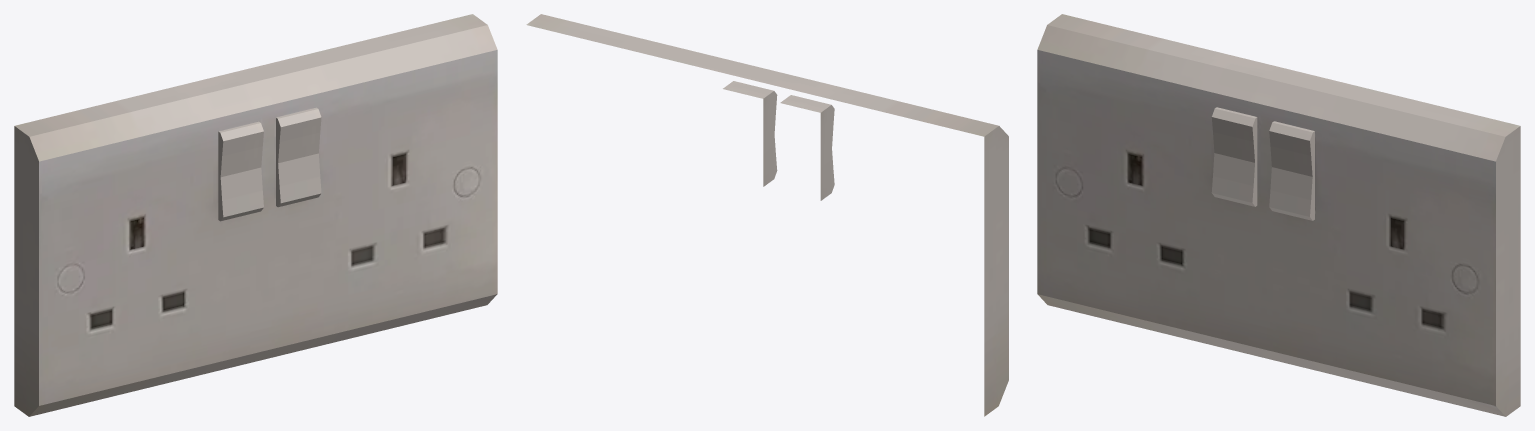
Rendered from socket-twin.glb.
The picture shows the model from 3 angles, left to right: view 1: azimuth 30°, elevation 25°; view 2: azimuth 150°, elevation 25°; view 3: azimuth 330°, elevation 25°; orthographic projection.
Parts seen in each view (by area): view 1: wallSocket; view 2: wallSocket; view 3: wallSocket.
Boxes of the visible parts, x1,y1,x2,y2 form: wallSocket: (14,14,497,416); wallSocket: (526,14,1008,416); wallSocket: (1037,14,1520,416).
Size of the model in its own units: 0.08 by 0.0468 by 0.00897.
1 material, 1 textured.
